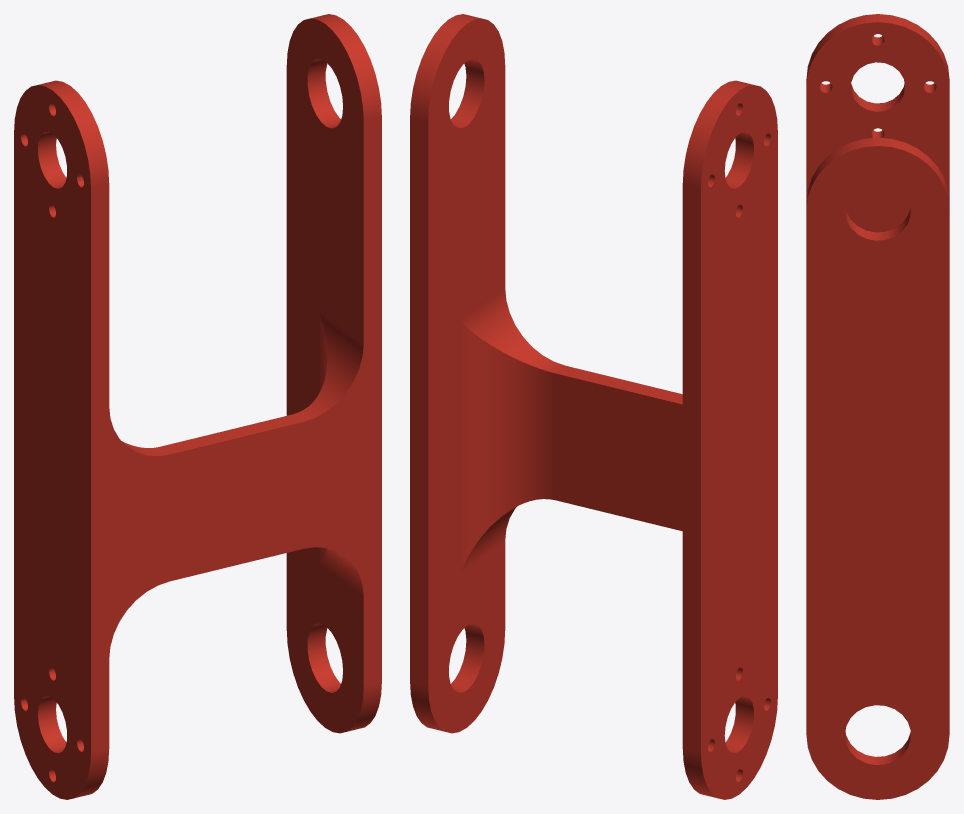
Rendered from Left Thigh.dae.
The picture shows the model from 3 angles, left to right: view 1: azimuth 30°, elevation 25°; view 2: azimuth 150°, elevation 25°; view 3: azimuth 270°, elevation 25°; orthographic projection. The views are drawn at different scales.
Parts seen in each view (by area): view 1: Body1_Paint_-_Metallic_(Red); view 2: Body1_Paint_-_Metallic_(Red); view 3: Body1_Paint_-_Metallic_(Red).
Part boxes in pixels (bbox=[...]): Body1_Paint_-_Metallic_(Red): bbox=[14, 14, 381, 799]; Body1_Paint_-_Metallic_(Red): bbox=[410, 14, 777, 799]; Body1_Paint_-_Metallic_(Red): bbox=[806, 14, 949, 799].
Size of the model in its own units: 0.048 by 0.022 by 0.111.
